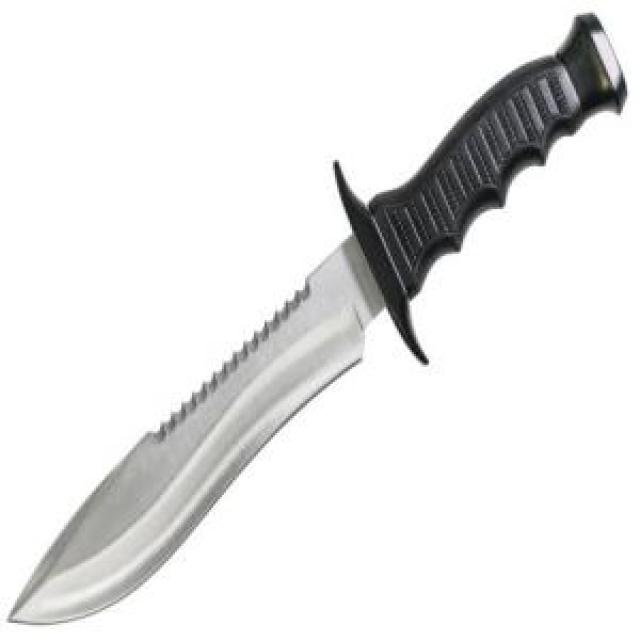knife: (6, 4, 628, 635)
